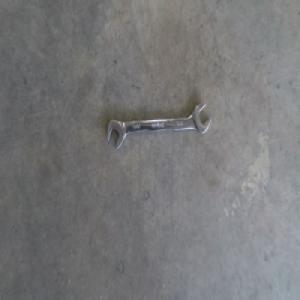Wrench: (107, 102, 212, 148)
